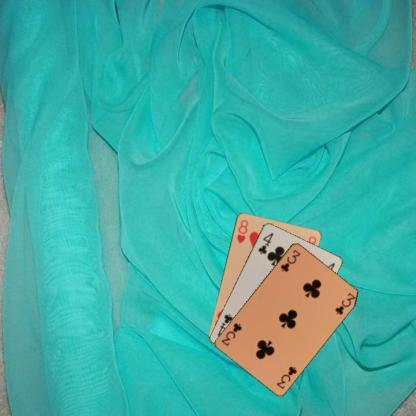3c: (274, 363, 298, 390), (278, 246, 302, 272)
4c: (256, 230, 274, 255)
8h: (234, 218, 249, 245)
